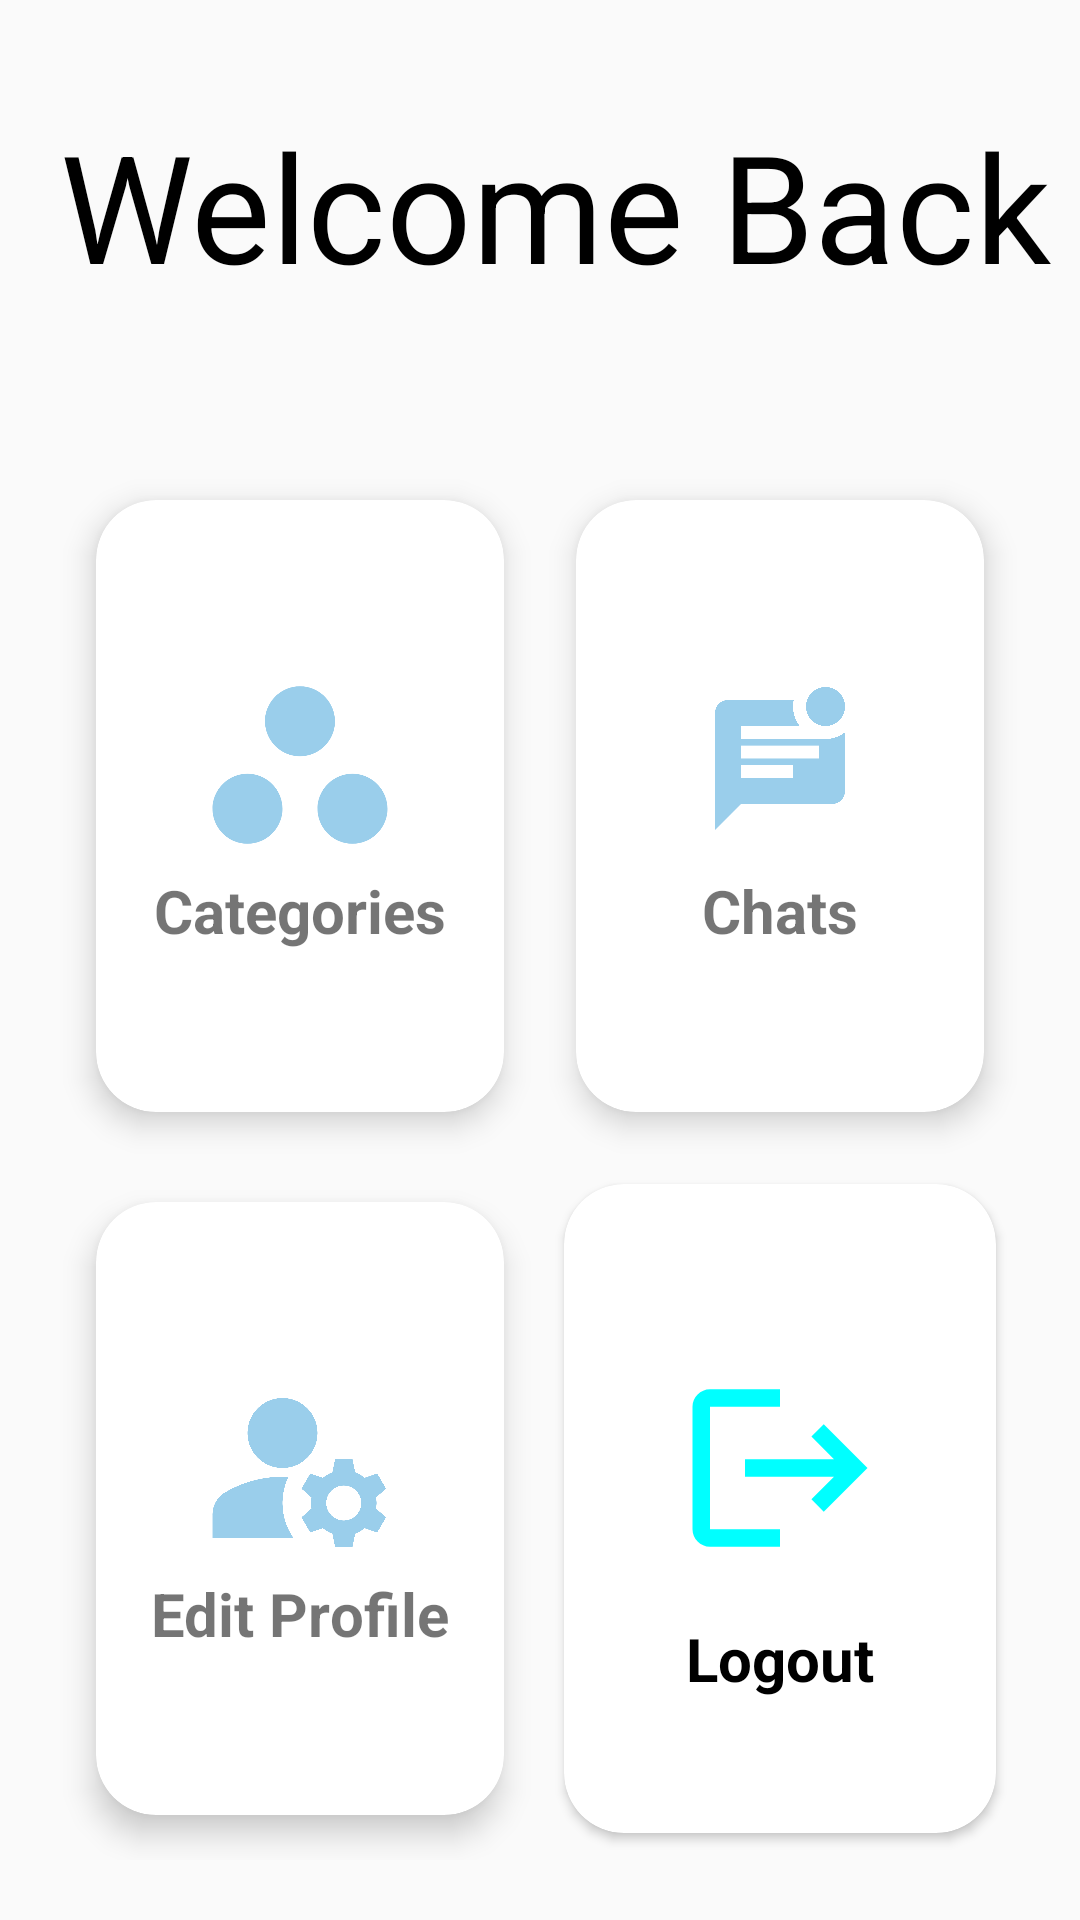

Point at icon controls on the screen. Image size 1080 x 1920, points as [x,y].
manage accounts: [299,1472]
mark unread chat: [780,758]
workspaces: [300,765]
